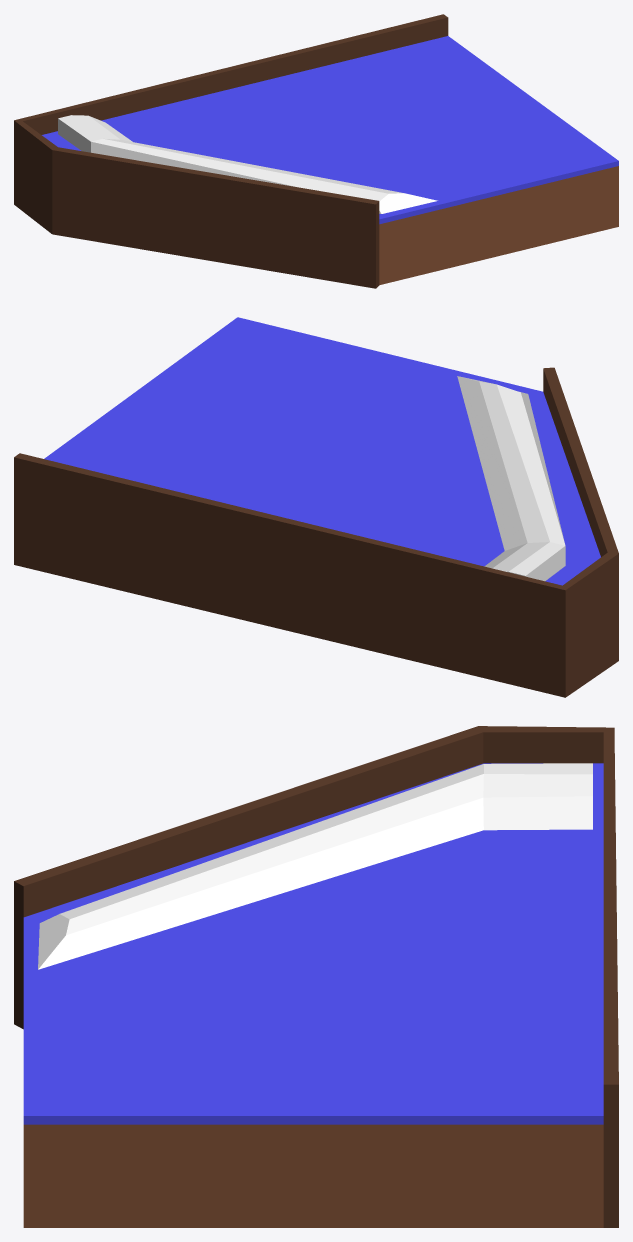
The model's file is BetterBed.fbx.
3 renders of one model, top to bottom at view 1: azimuth 30°, elevation 25°; view 2: azimuth 150°, elevation 25°; view 3: azimuth 270°, elevation 25°, orthographic. The views are drawn at different scales.
Parts seen in each view (by area): view 1: LP_Bed; view 2: LP_Bed; view 3: LP_Bed.
Part boxes in pixels (left/top/right/bottom): LP_Bed: left=14, top=14, right=618, bottom=288; LP_Bed: left=14, top=317, right=618, bottom=697; LP_Bed: left=14, top=726, right=618, bottom=1227.
Size of the model in its own units: 250 by 46.43 by 178.
